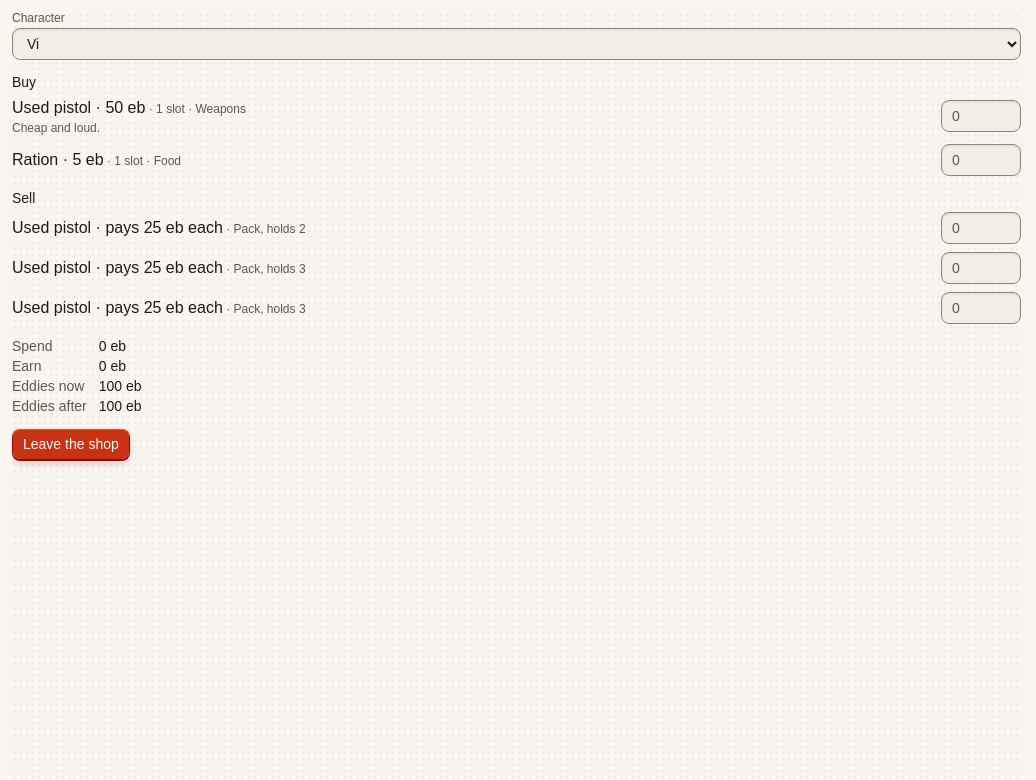
it: ShopStepForm balance rules › puts the cap hint on a middle line and none on an untouched last one
Type "1" into the number field named "Sell Used pistol from Pack" at (981, 228), box [941,212,1021,244]
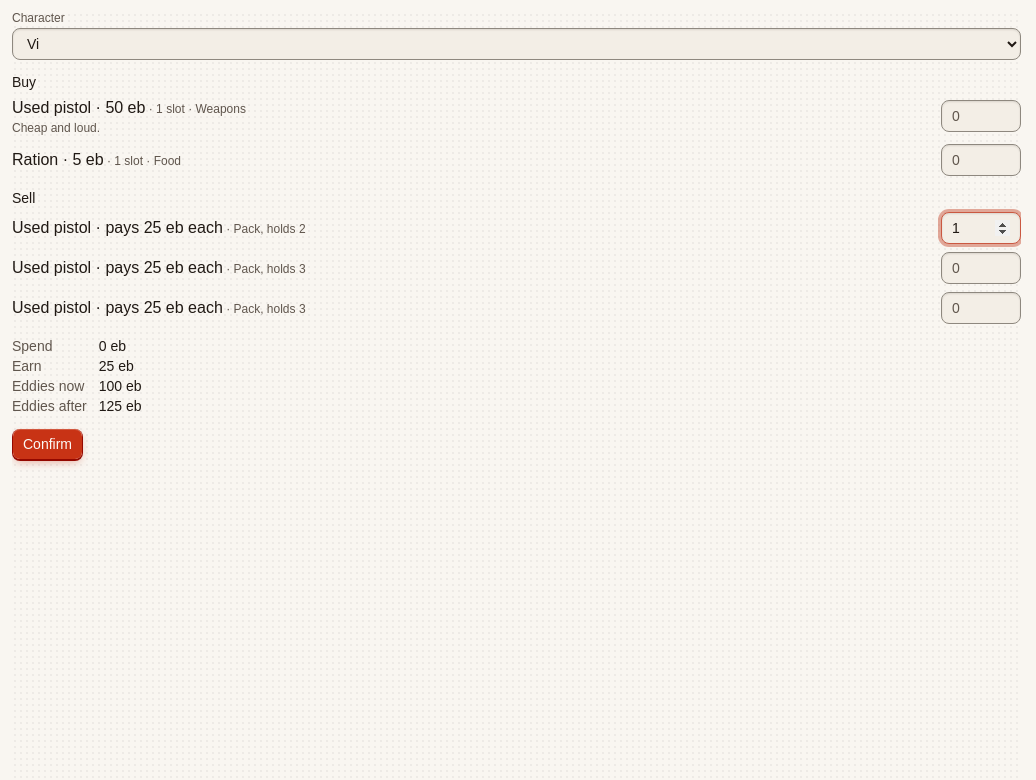
Type "2" into the number field named "Sell Used pistol from Pack" at (981, 268), box [941,252,1021,284]
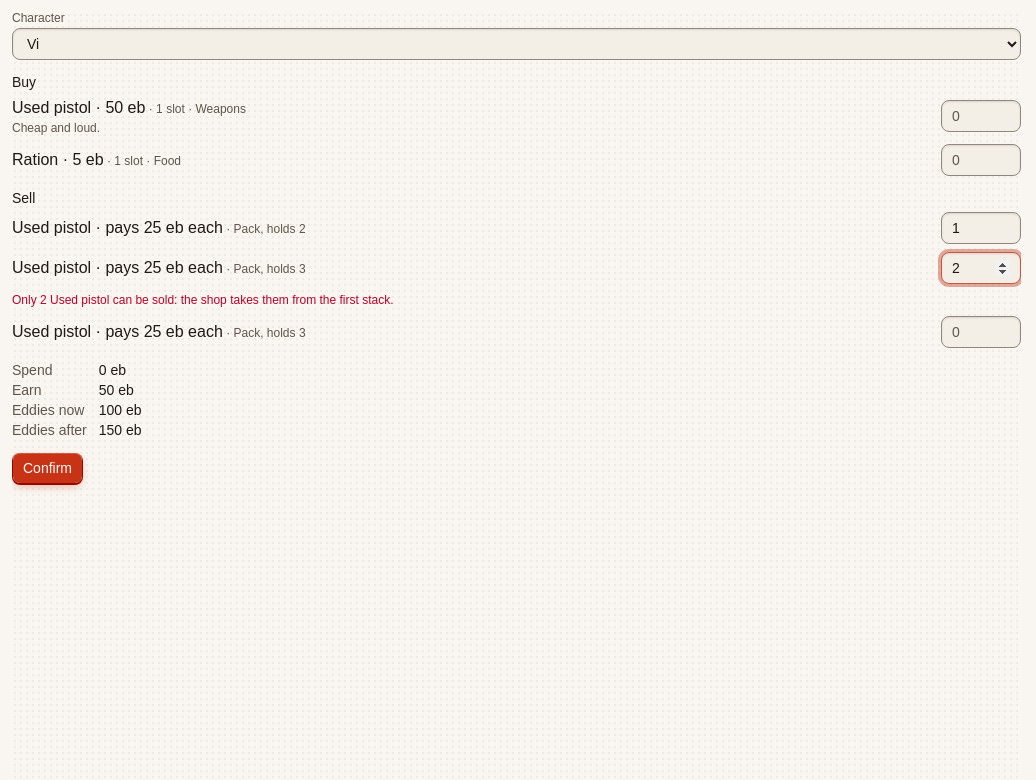
Result: the text "Only 2 Used pistol can be sold" is shown once at [12,293,394,307]
